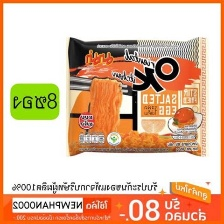snack: (59, 29, 214, 160)
